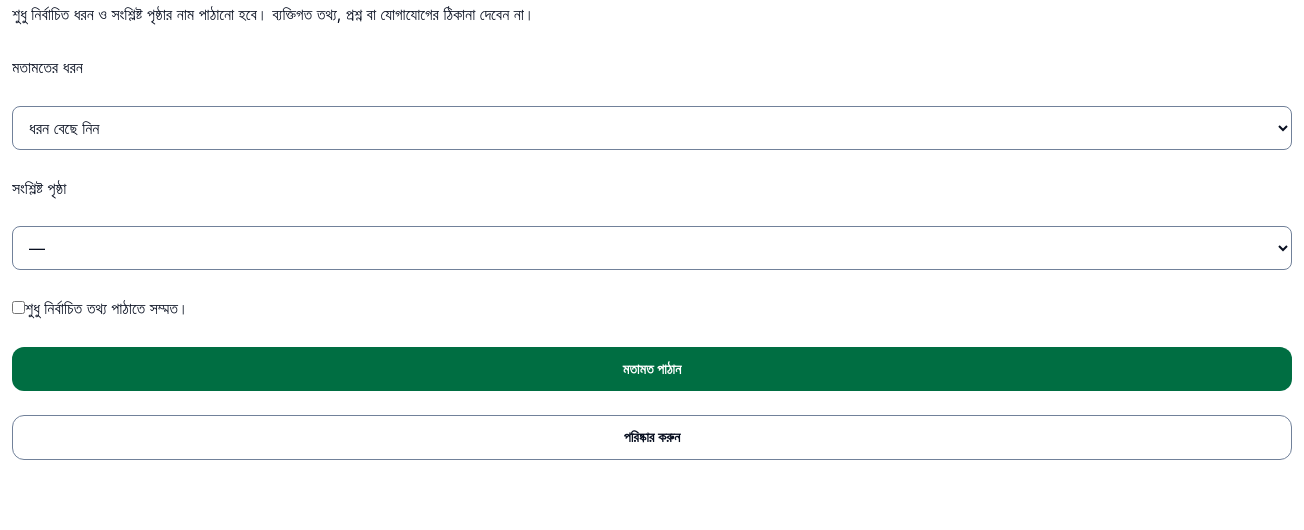
it: audit feedback never claims success for policy failure or malformed receipt
Select "প্রবেশগম্যতা" in the dropdown labelled "মতামতের ধরন": (652, 128) [12, 106, 1292, 150]
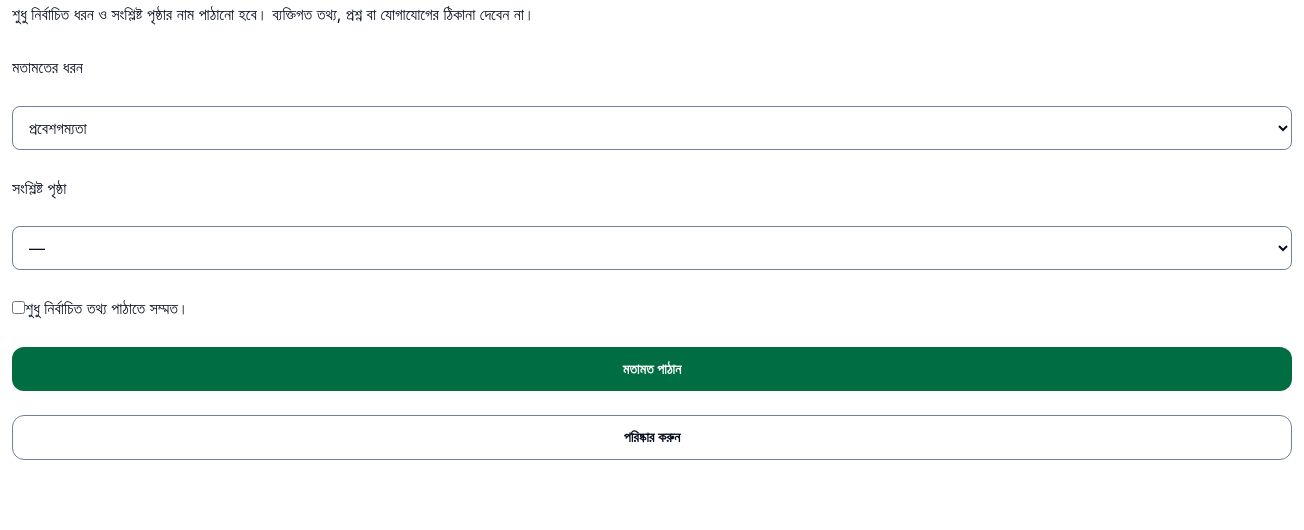
Click the checkbox: (18, 308) [12, 301, 25, 314]
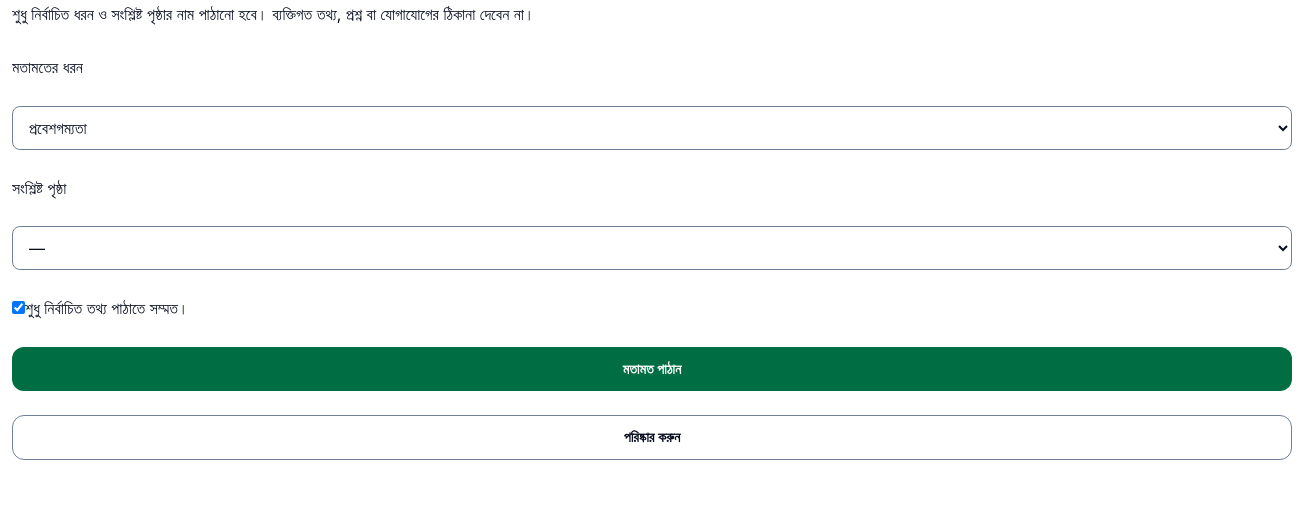
Click the button "মতামত পাঠান": (652, 369) [12, 347, 1292, 391]
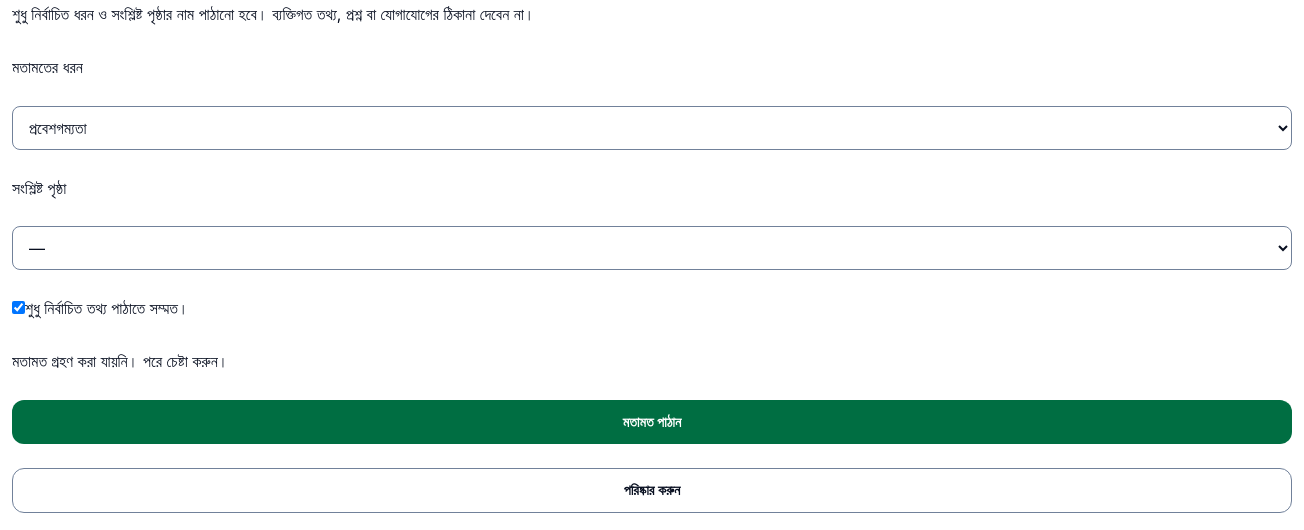
Expected: the message shows "গ্রহণ করা যায়নি", [12, 351, 229, 371]
